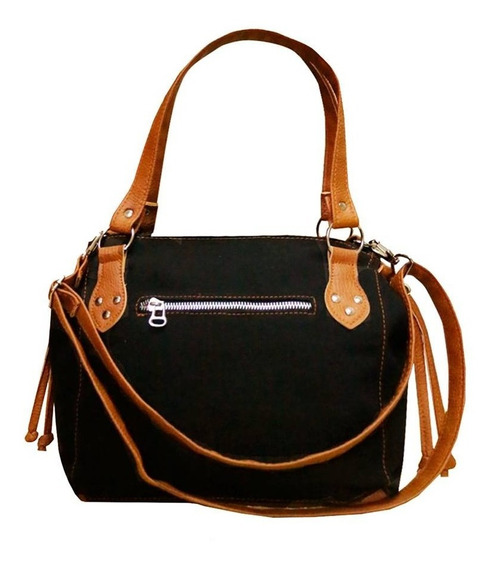cartera: (48, 28, 413, 499)
